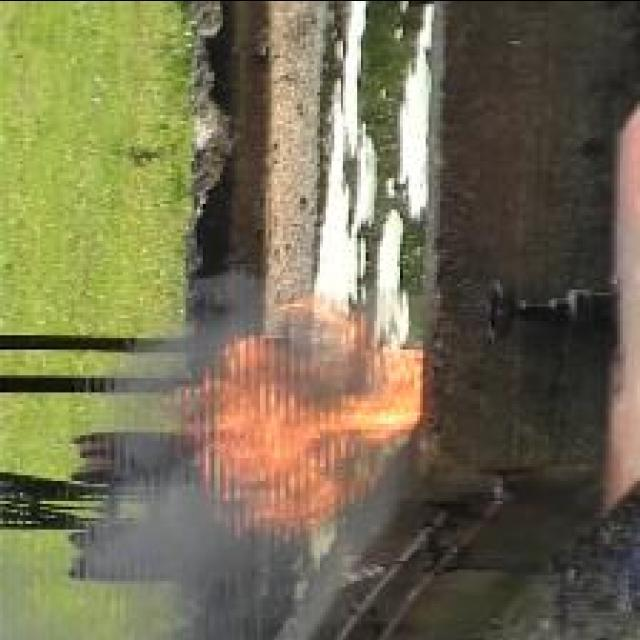Fire: (165, 297, 422, 537)
